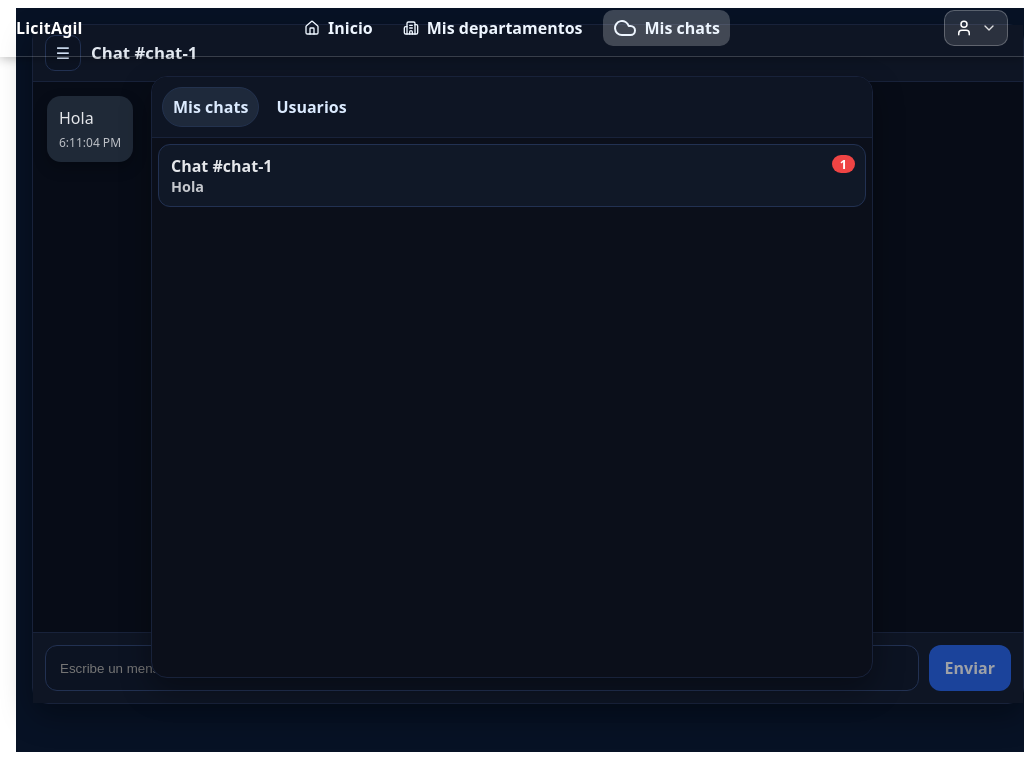
Test: Chat - WORKER responde a un chat › ve chat existente y responde "Qué tal"
(page scrolled)
Expected: the 2nd text "Hola" is shown, [171, 177, 204, 196]
// Abrir el chat
Click the text "Chat #chat-1".
click(222, 166)  # box [171, 155, 273, 177]
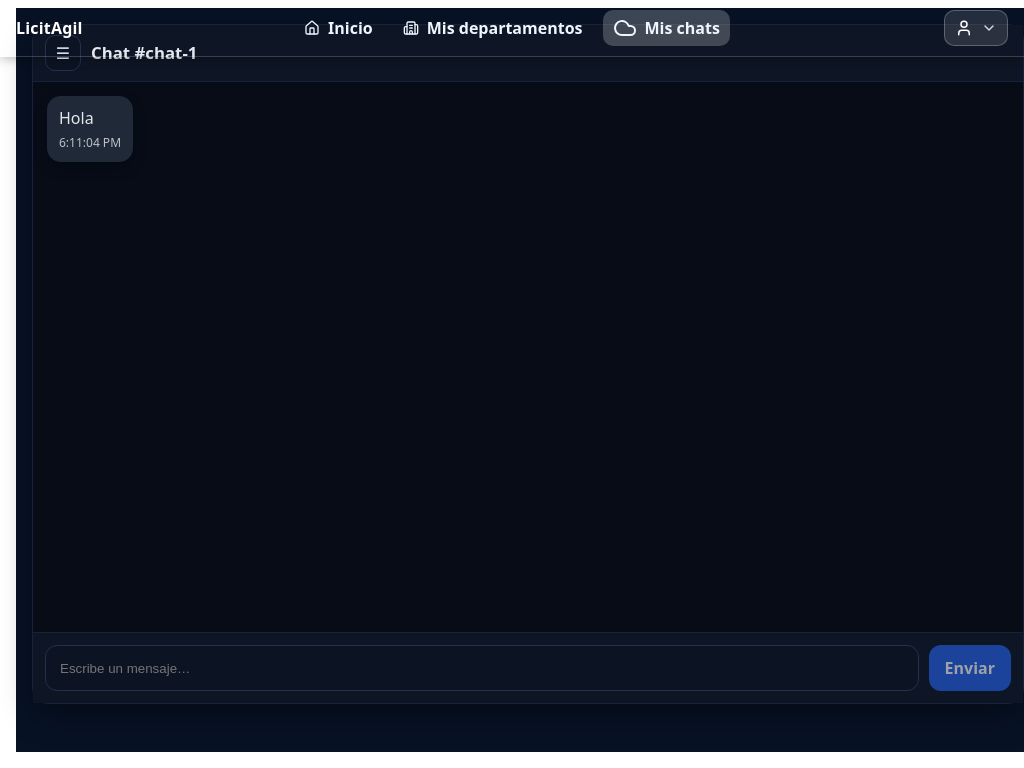
// Enviar "Qué tal"
Type "Qué tal" into the field with placeholder "Escribe un mensaje…".
click(482, 668); type("Qué tal")  # box [45, 645, 919, 691]
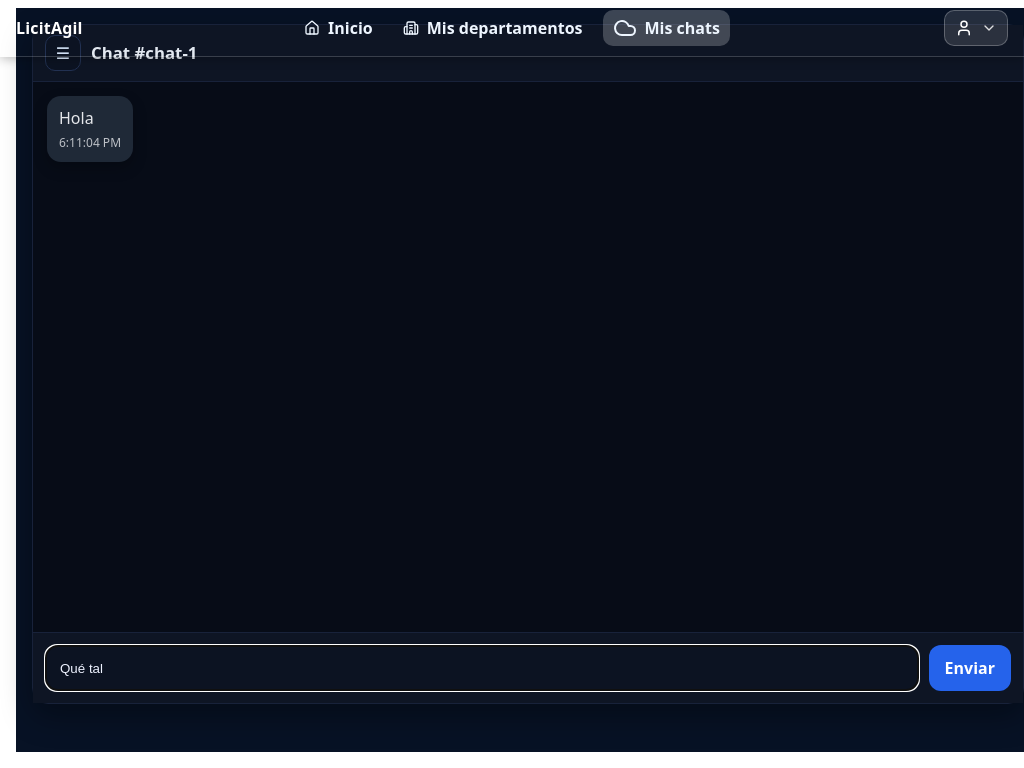
Click the button "Enviar".
click(970, 668)  # box [929, 645, 1011, 691]
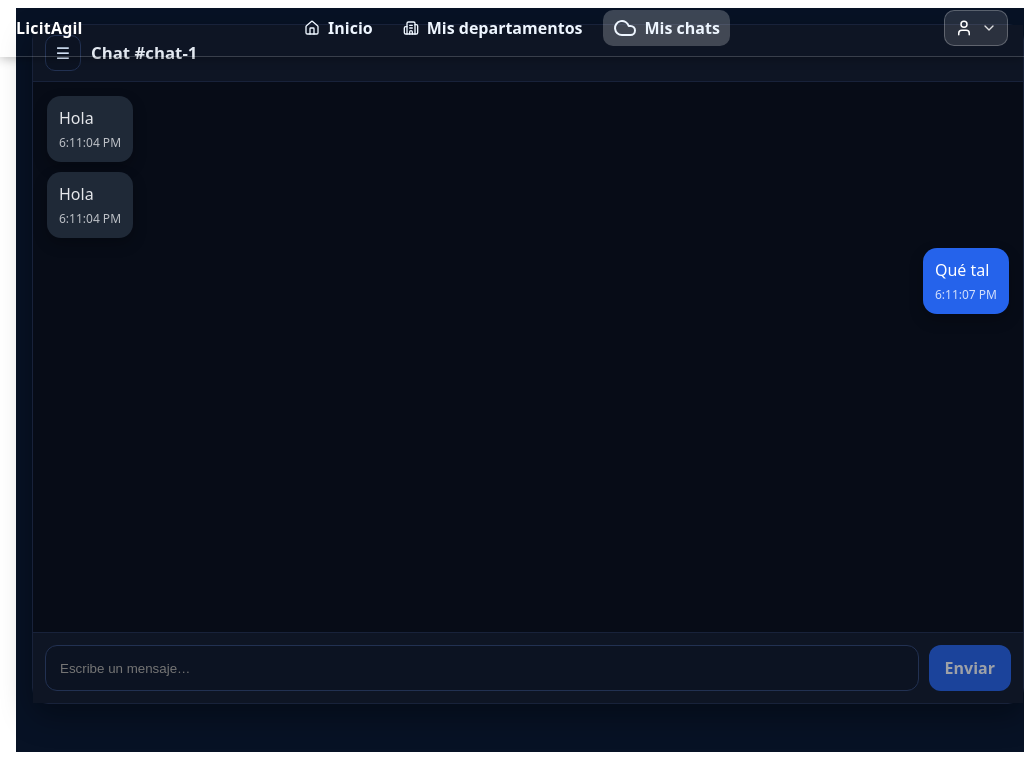
Expected: the text "Qué tal" is shown, [935, 258, 997, 282]
